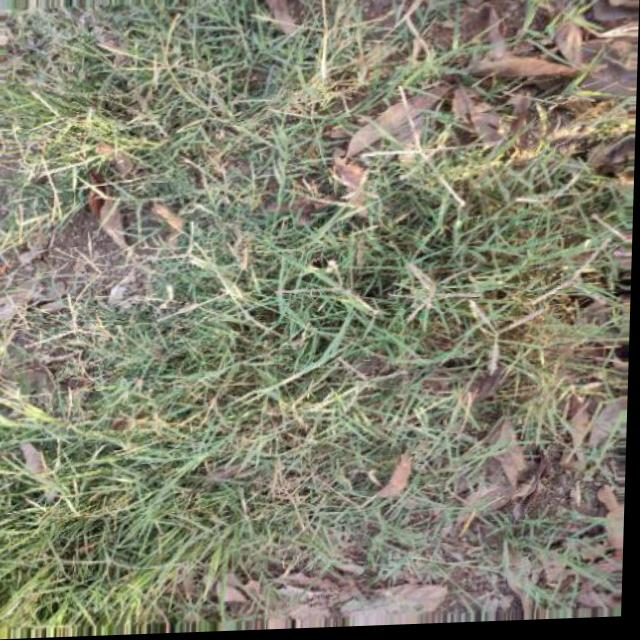weed: (0, 0, 587, 602)
